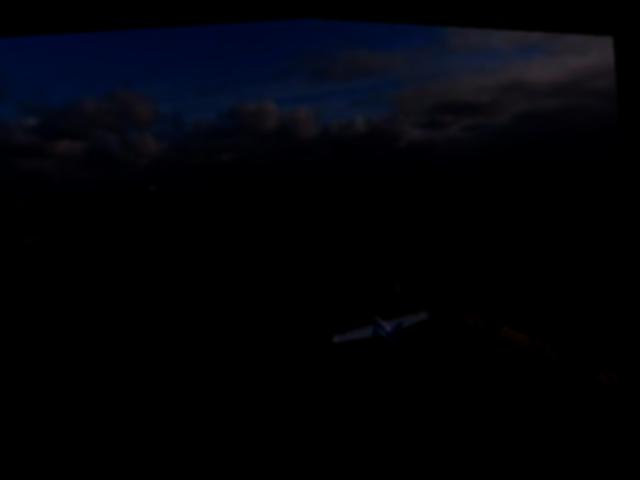uav: (328, 295, 445, 366)
